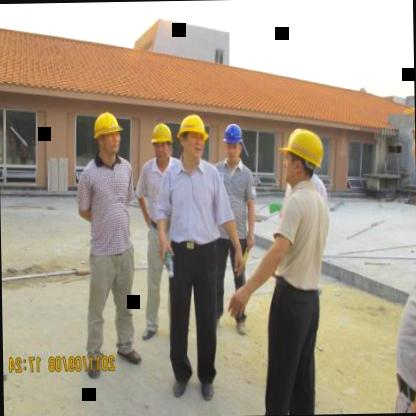helmet: (278, 124, 326, 186), (177, 110, 208, 165), (91, 110, 121, 160), (150, 121, 176, 166), (220, 121, 244, 164)
